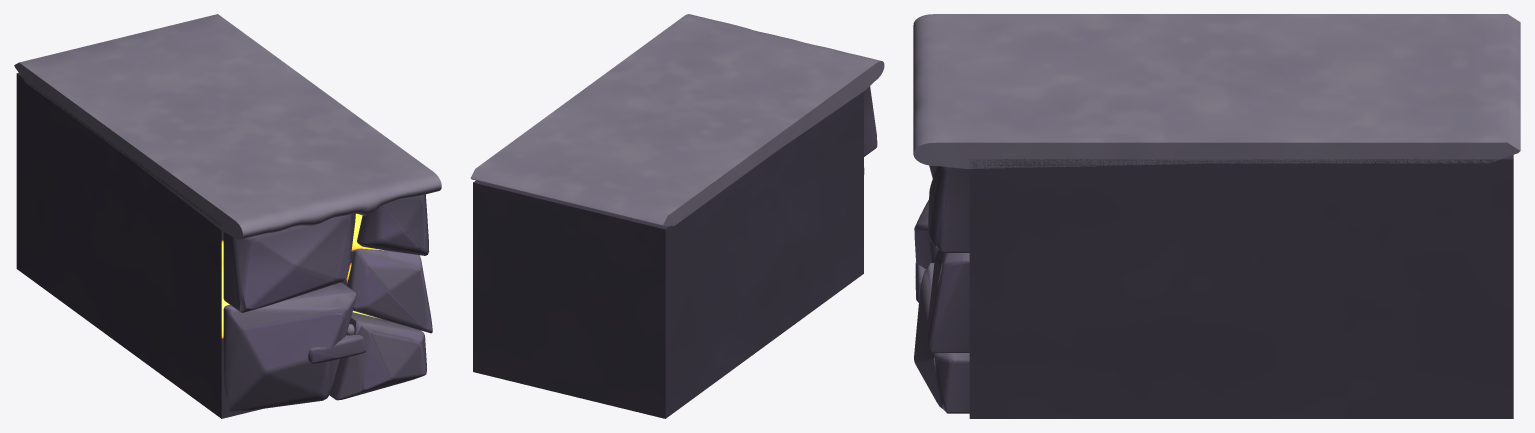
File: EF_T01_CooledBasaltCore_V3.fbx
The picture shows the model from 3 angles, left to right: view 1: azimuth 30°, elevation 25°; view 2: azimuth 150°, elevation 25°; view 3: azimuth 270°, elevation 25°; orthographic projection. The views are drawn at different scales.
Visible parts, largest first — view 1: Rock, Crust; view 2: Rock, Crust; view 3: Rock, Crust.
Part boxes in pixels (bbox=[...]): Rock: bbox=[16, 73, 432, 418]; Crust: bbox=[14, 14, 441, 239]; Rock: bbox=[473, 86, 877, 418]; Crust: bbox=[470, 14, 884, 226]; Rock: bbox=[914, 155, 1513, 418]; Crust: bbox=[913, 14, 1520, 168].
Bounding box in the file's own units: 2 × 2 × 3.99.
